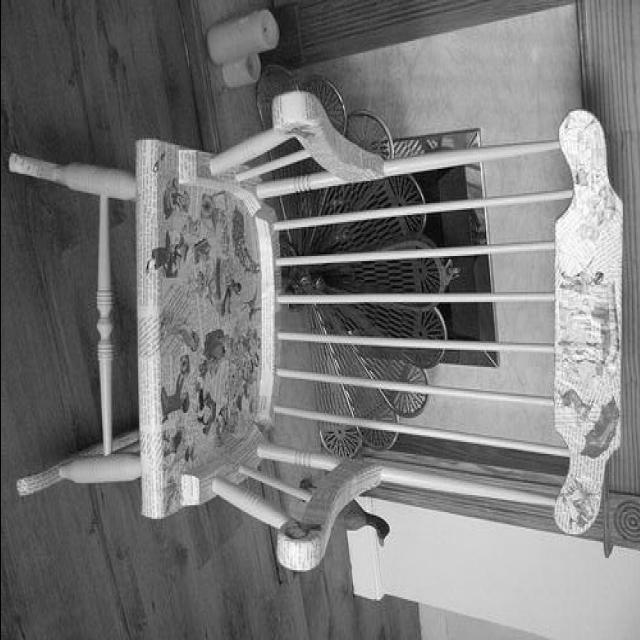chair: (11, 95, 626, 571)
